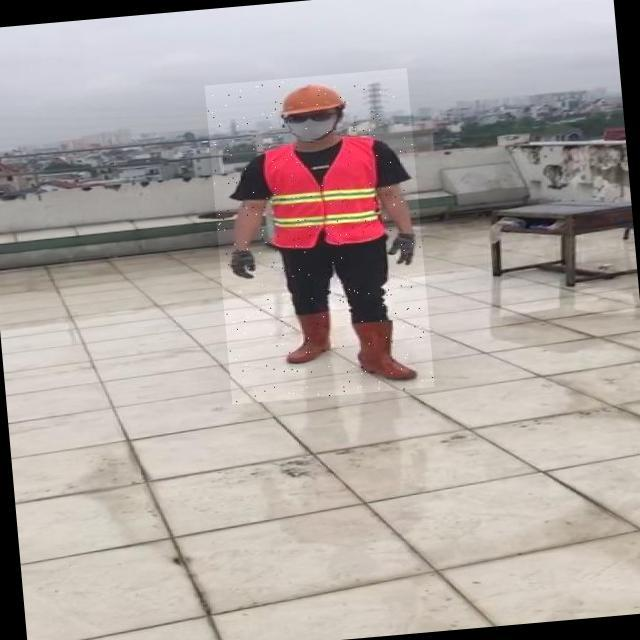Helmet: (276, 78, 349, 118)
Human: (205, 67, 436, 404)
Safety Boot: (358, 314, 433, 383), (282, 310, 342, 367)
Safety Vest: (261, 134, 392, 250)
